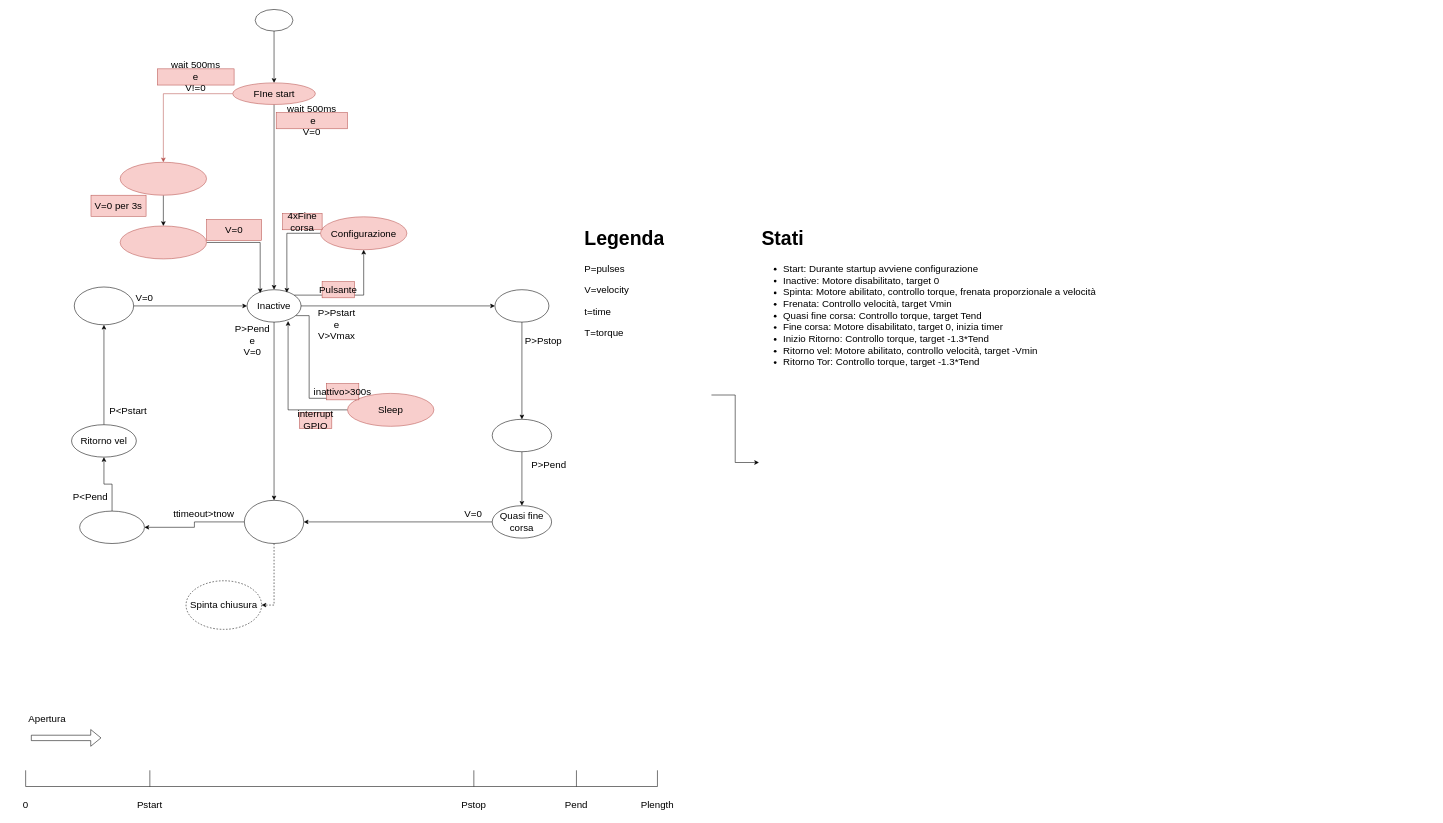
Image size: 1443x823. Some labels were removed from this diagram. The centre of each missing label's shape, as x and y in pixels:
"Fine corsa" belongs at point 274,522.
"Fine ricarica" belongs at point 163,242.
"Frenata" belongs at point 522,435.
"Inizio ritorno" belongs at point 111,527.
"Ricarica" belongs at point 163,178.
"Ritorno tor" belongs at point 104,305.
"Spinta" belongs at point 521,305.
"Start" belongs at point 274,20.
